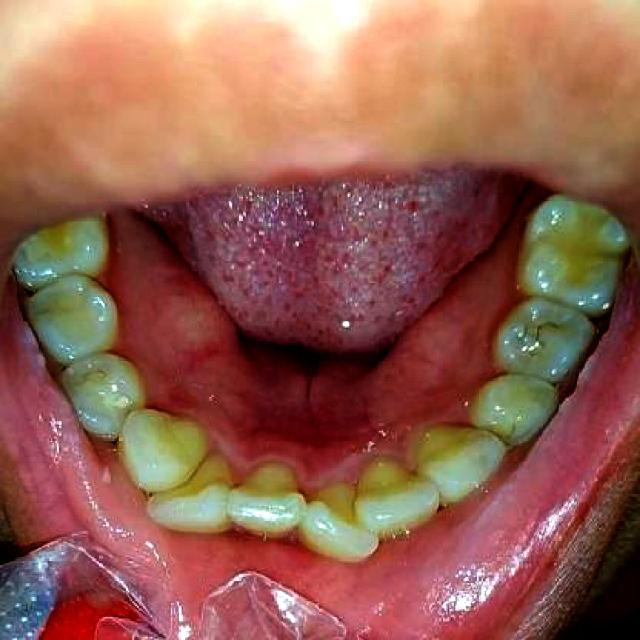Plaque: (511, 318, 565, 358), (86, 366, 112, 391), (495, 422, 522, 443)
